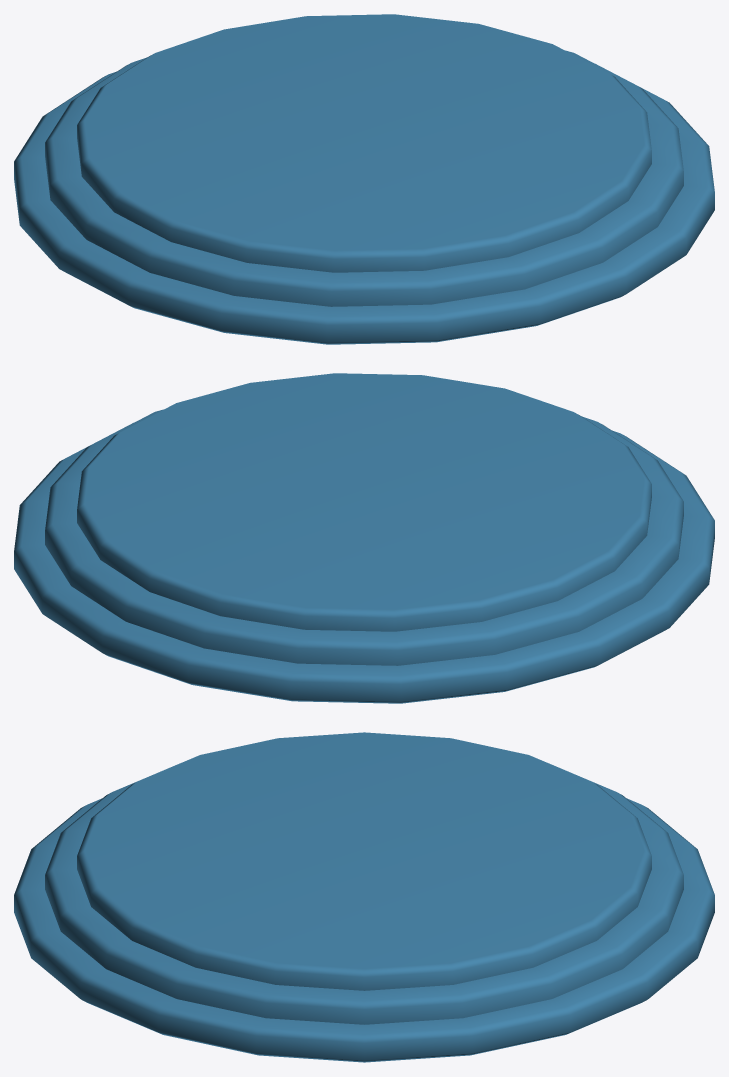
3 renders of one model, top to bottom at view 1: azimuth 30°, elevation 25°; view 2: azimuth 150°, elevation 25°; view 3: azimuth 270°, elevation 25°, orthographic.
Parts seen in each view (by area): view 1: guillotina1; view 2: guillotina1; view 3: guillotina1.
Boxes of the visible parts, x1,y1,x2,y2 form: guillotina1: [14, 14, 714, 344]; guillotina1: [14, 373, 714, 703]; guillotina1: [14, 732, 714, 1062].
Bounding box in the file's own units: 1193 × 126 × 1193.
